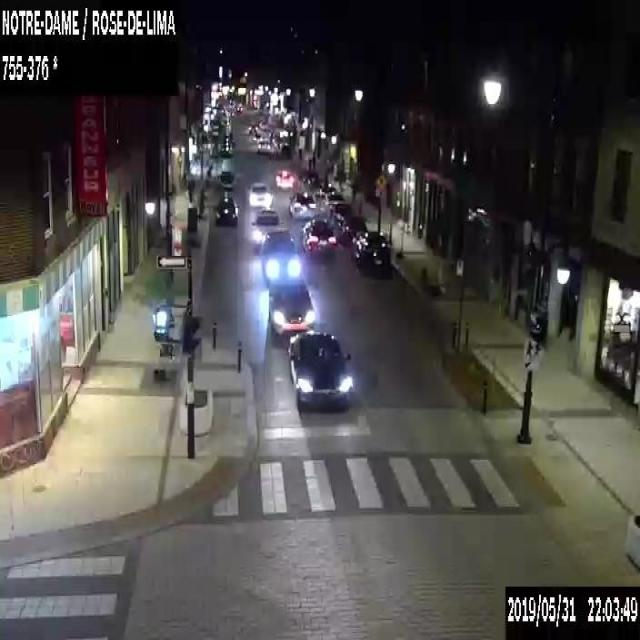vehicle: (288, 330, 353, 410), (268, 278, 313, 332), (261, 227, 299, 280), (352, 230, 390, 274), (251, 210, 279, 254), (301, 219, 336, 254), (337, 215, 368, 244), (214, 195, 238, 224), (288, 192, 314, 218), (326, 200, 352, 224), (248, 182, 271, 206), (320, 193, 344, 212), (314, 183, 334, 203), (275, 169, 294, 189), (218, 169, 234, 188), (257, 137, 270, 152), (219, 146, 232, 156)
